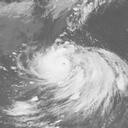cyclone: (17, 40, 127, 117)
